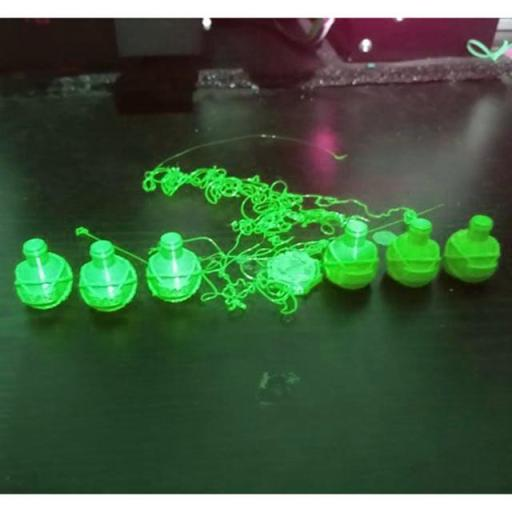spaghetti: (143, 161, 416, 230), (198, 228, 333, 317), (72, 226, 102, 243), (145, 242, 162, 258), (180, 234, 201, 244)
